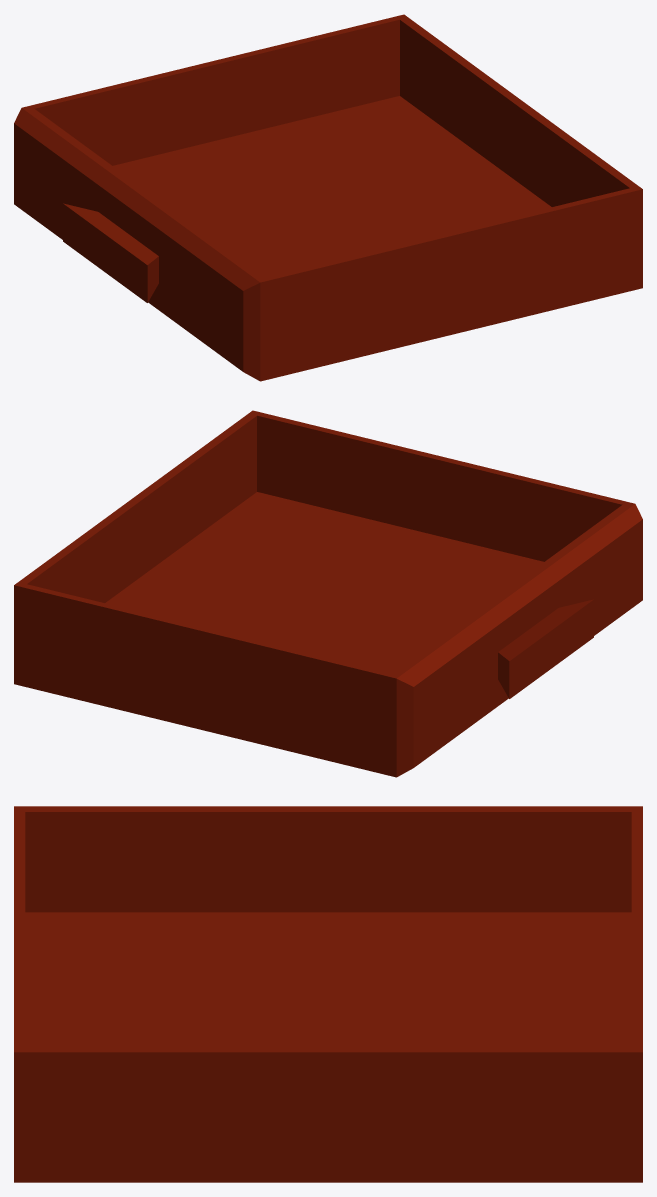
Rendered from m_DresserDoor03.FBX.
3 renders of one model, top to bottom at view 1: azimuth 30°, elevation 25°; view 2: azimuth 150°, elevation 25°; view 3: azimuth 270°, elevation 25°, orthographic. The views are drawn at different scales.
Visible parts, largest first — view 1: DresserDoor03; view 2: DresserDoor03; view 3: DresserDoor03.
Boxes of the visible parts, box(x1,y1,x2,y2) form: DresserDoor03: box(14, 14, 642, 381); DresserDoor03: box(14, 410, 642, 777); DresserDoor03: box(14, 806, 642, 1182).
Size of the model in its own units: 86.26 by 85.28 by 19.5.
